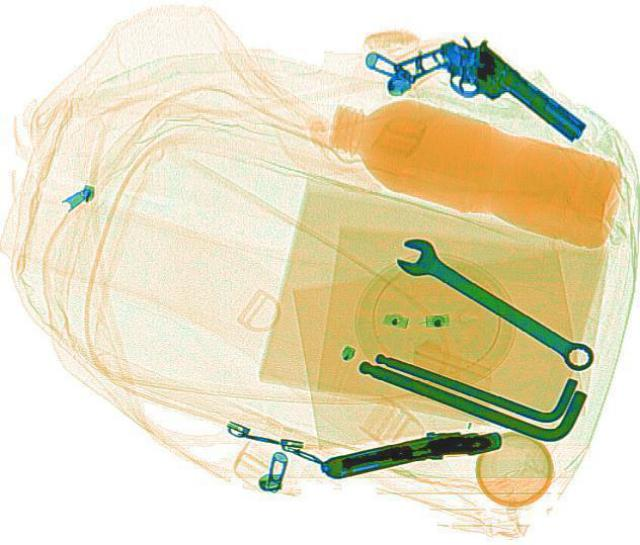Gun: (386, 13, 592, 175), (312, 418, 503, 483)
Wrench: (383, 230, 605, 377)
